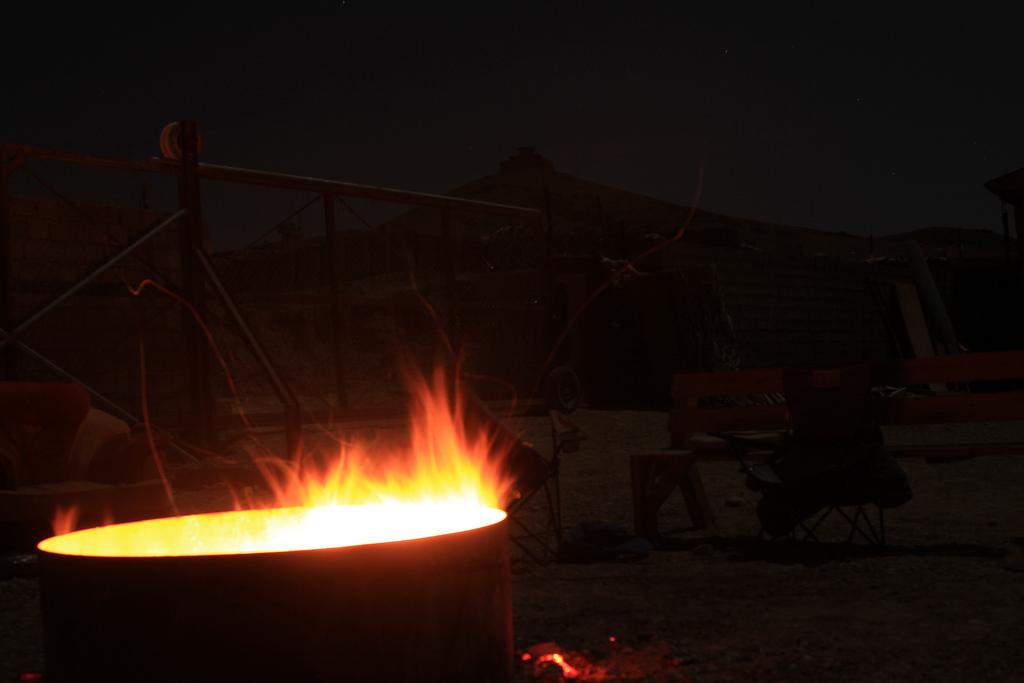fire: (305, 452, 498, 533), (163, 513, 282, 552)
